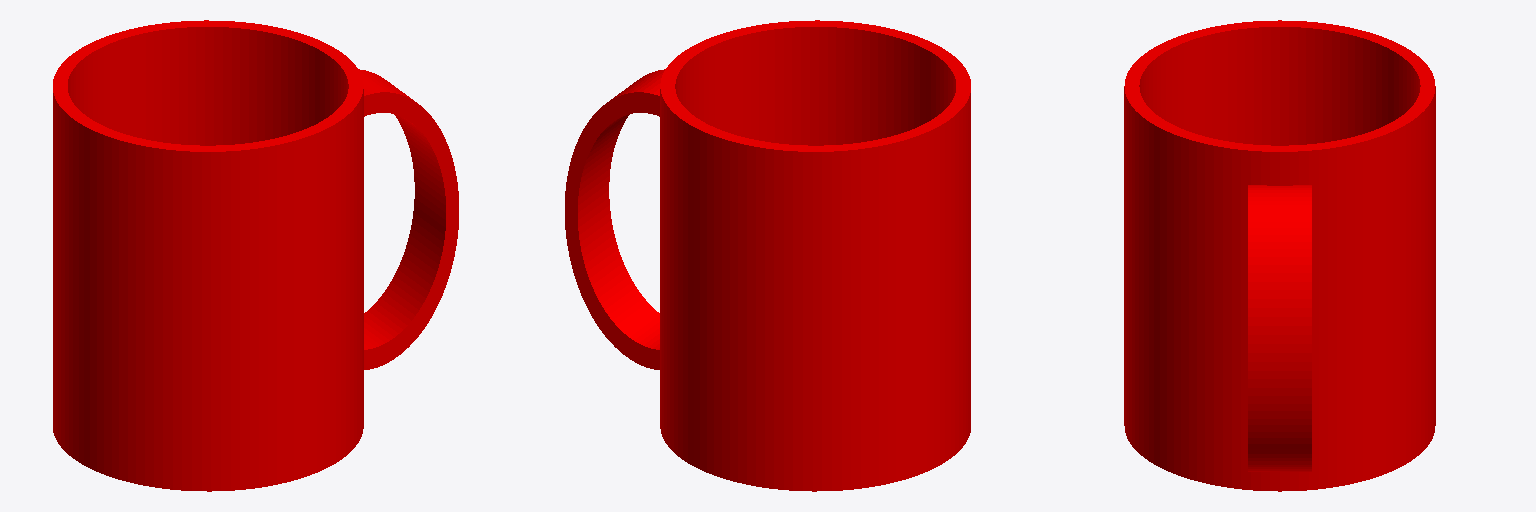
URDF robot description (mug.urdf):
<?xml version="1.0" ?>
<robot name="mug.urdf">
  <link name="baseLink">
    <inertial>
      <origin rpy="0 0 0" xyz="0 0 0"/>
       <mass value=".1"/>
       <inertia ixx="1" ixy="0" ixz="0" iyy="1" iyz="0" izz="1"/>
    </inertial>
    <contact>
      <lateral_friction value="1.0"/>
      <inertia_scaling value="3.0"/>
    </contact>
    <visual>
      <origin rpy="0 0 0" xyz="0 0 0"/>
      <geometry>
        <mesh filename="7.stl" scale="1 1 1" />
      </geometry>
      <material name="red">
        <color rgba="1 0 0 1"/>
      </material>
    </visual>
    <collision>
      <origin rpy="0 0 0" xyz="0 0 0"/>
      <geometry>
        <mesh filename="7_convex.obj" scale="1 1 1" />
      </geometry>
    </collision>
  </link>
</robot>

--- What the picture shows (computed from the rendered views, not written in the file) ---
The picture shows the robot from 3 angles, left to right: view 1: azimuth 30°, elevation 25°; view 2: azimuth 150°, elevation 25°; view 3: azimuth 270°, elevation 25°; orthographic projection.
Robot: mug.urdf — 1 links, 0 joints (none); root link baseLink; default pose: all joints at 0.
Visible links, largest first — view 1: baseLink; view 2: baseLink; view 3: baseLink.
Link boxes in pixels (x1,y1,x2,y2): baseLink: (53,20,458,491); baseLink: (565,20,970,491); baseLink: (1124,20,1435,491).
Size in the robot's own frame: 0.1425 by 0.1037 by 0.1249 metres.
1 mesh visuals loaded from 1 distinct referenced files (1 binary STL).